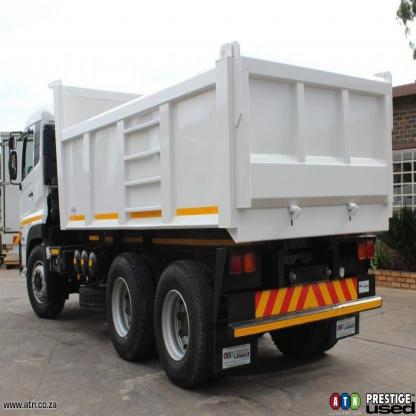dump_truck: (2, 49, 396, 383)
